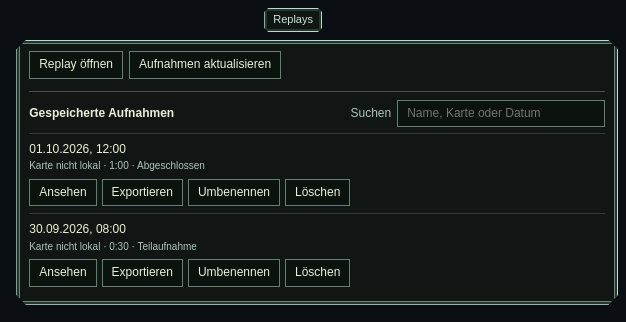
Test: replay library helpers › lists, searches and renames stored recordings in the library view
Expected: the number of list items is 2, 29,133 -> 605,213; 29,213 -> 605,294
Type "Teilaufnahme" into the search field with test id "replay-search" showing "Suchen" at (501, 113), box 397,100 -> 605,127
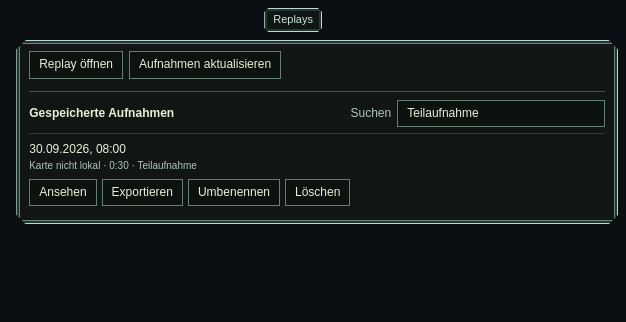
Click the button "Umbenennen" at (234, 193), box 188,179 -> 280,206
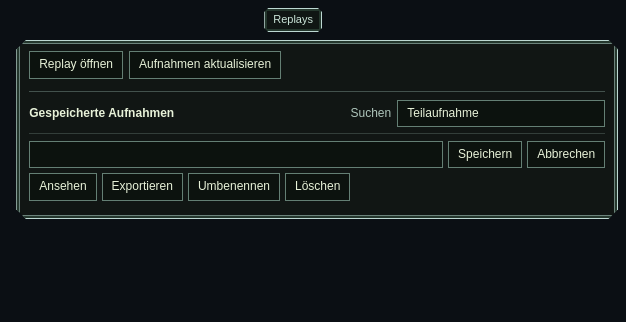
Type "Probelauf" into the field with test id "replay-rename-input" at (236, 155), box 29,141 -> 443,168
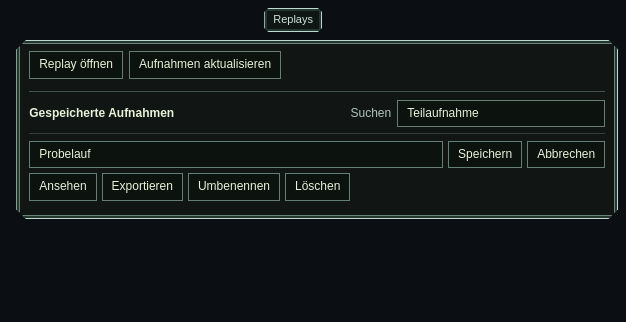
Submit the form, box 29,141 -> 605,168
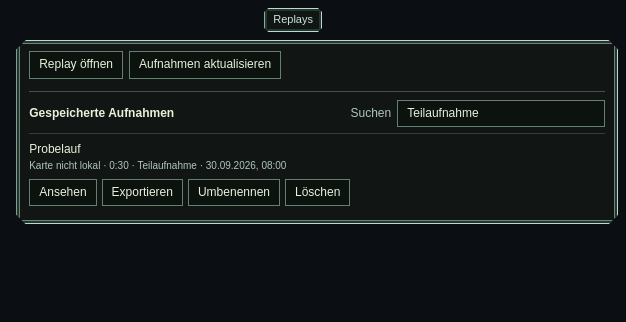
Now the text "Probelauf" is shown, box 29,142 -> 81,156
